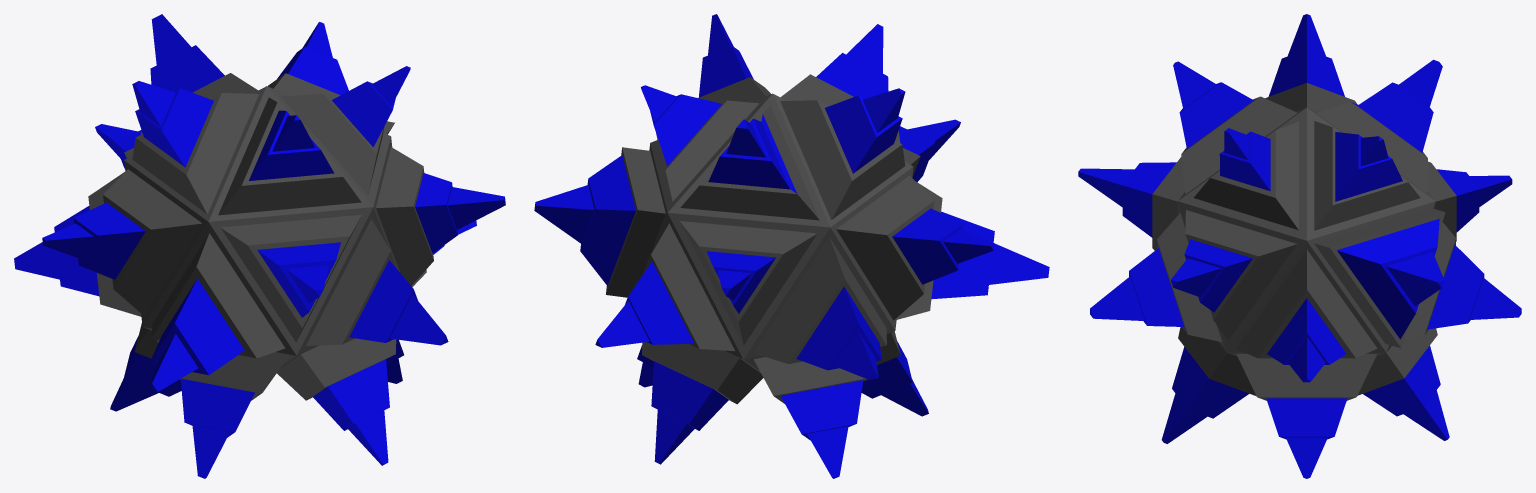
The model's file is SupplyPower.fbx.
3 renders of one model, left to right at view 1: azimuth 30°, elevation 25°; view 2: azimuth 150°, elevation 25°; view 3: azimuth 270°, elevation 25°, orthographic. The views are drawn at different scales.
Visible parts, largest first — view 1: PowerUp; view 2: PowerUp; view 3: PowerUp.
Boxes of the visible parts, x1,y1,x2,y2 form: PowerUp: [14, 14, 505, 478]; PowerUp: [534, 14, 1049, 478]; PowerUp: [1078, 14, 1521, 478].
Size of the model in its own units: 77.93 by 64.04 by 73.13.
